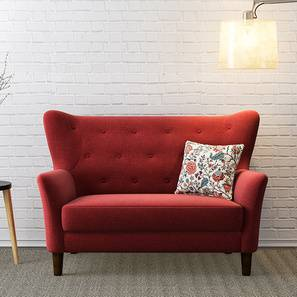chairs: (36, 108, 270, 278)
